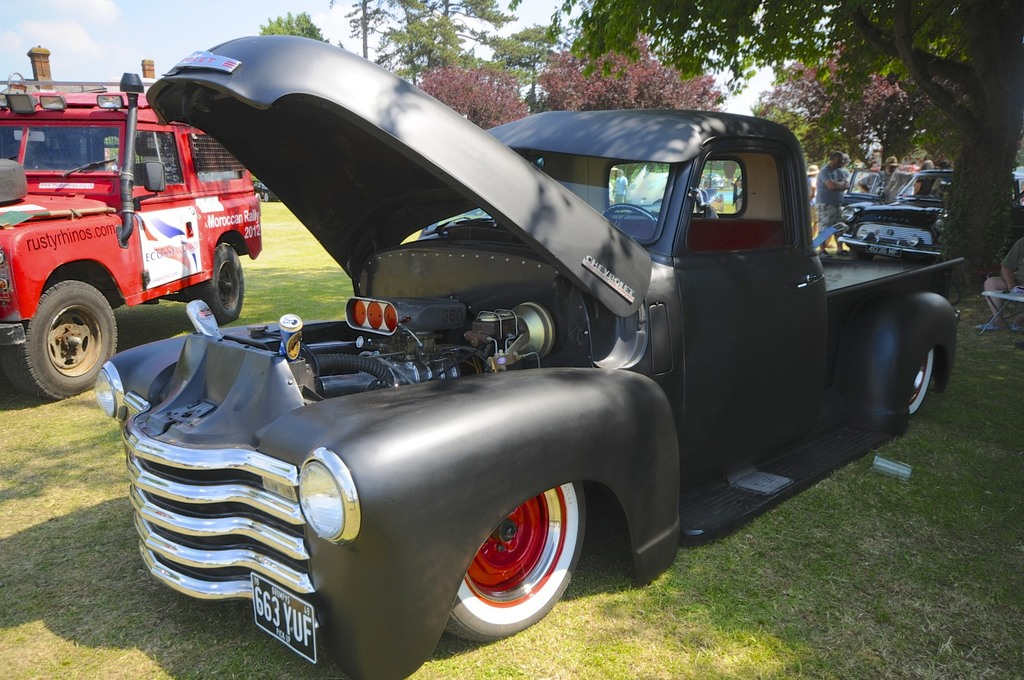Wheel: (443, 491, 578, 629), (0, 278, 118, 401), (192, 240, 243, 323), (913, 345, 940, 416), (600, 202, 657, 228), (849, 248, 874, 261), (265, 193, 271, 200)
